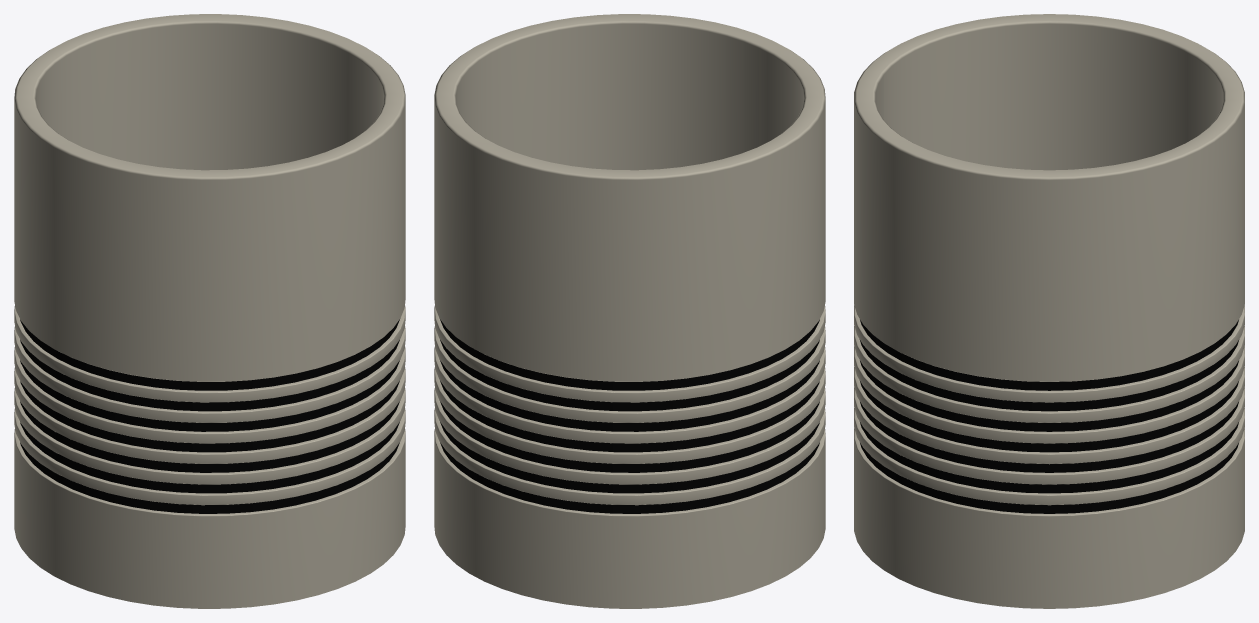
File: Info Pillar2.fbx
3 views of the same model, side by side, from view 1: azimuth 30°, elevation 25°; view 2: azimuth 150°, elevation 25°; view 3: azimuth 270°, elevation 25° (orthographic).
Parts seen in each view (by area): view 1: polySurface195; view 2: polySurface195; view 3: polySurface195.
Boxes of the visible parts, box(x1,y1,x2,y2) form: polySurface195: box(14, 14, 405, 608); polySurface195: box(434, 14, 825, 608); polySurface195: box(854, 14, 1244, 608).
Size of the model in its own units: 217 by 264 by 217.
